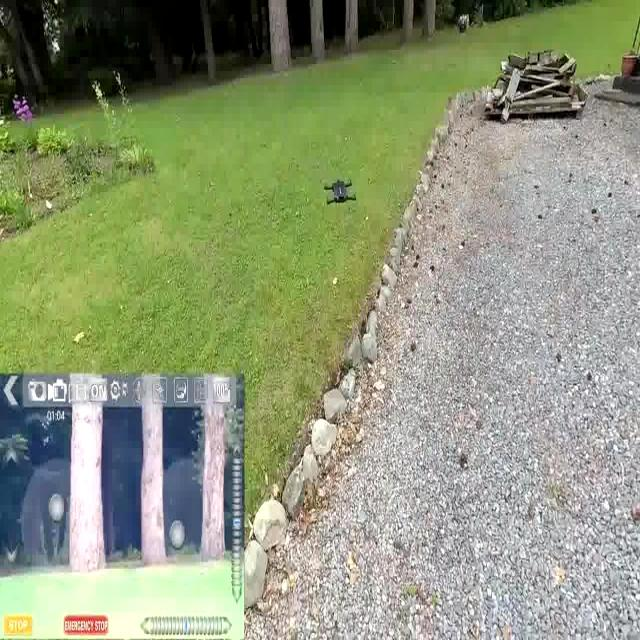drone: (324, 178, 358, 209)
